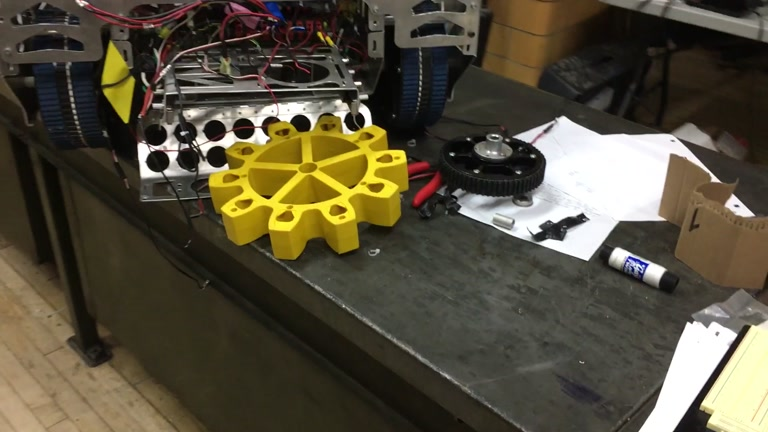gear: (207, 114, 408, 259)
